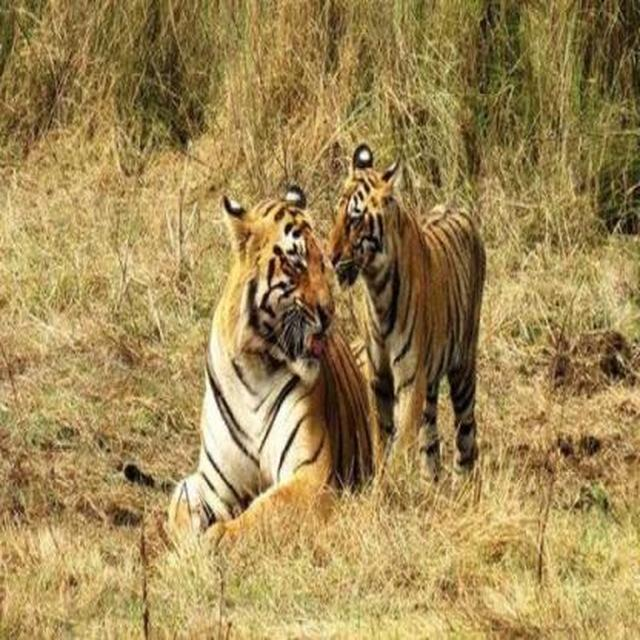tiger: (162, 183, 379, 558), (325, 142, 487, 489)
